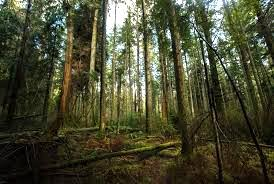Mammals Attack: (62, 24, 75, 117), (142, 41, 155, 124), (90, 12, 99, 99)
